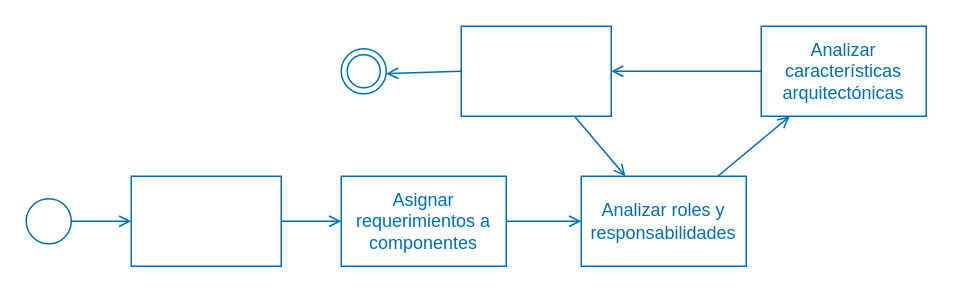
Image size: 953x293. Some labels were removed from this diagram. Each missing label, with the centre of its shape:
"Identificar los componentes iniciales" goes at pixel 205 220.
"Restructurar componentes" goes at pixel 535 70.
